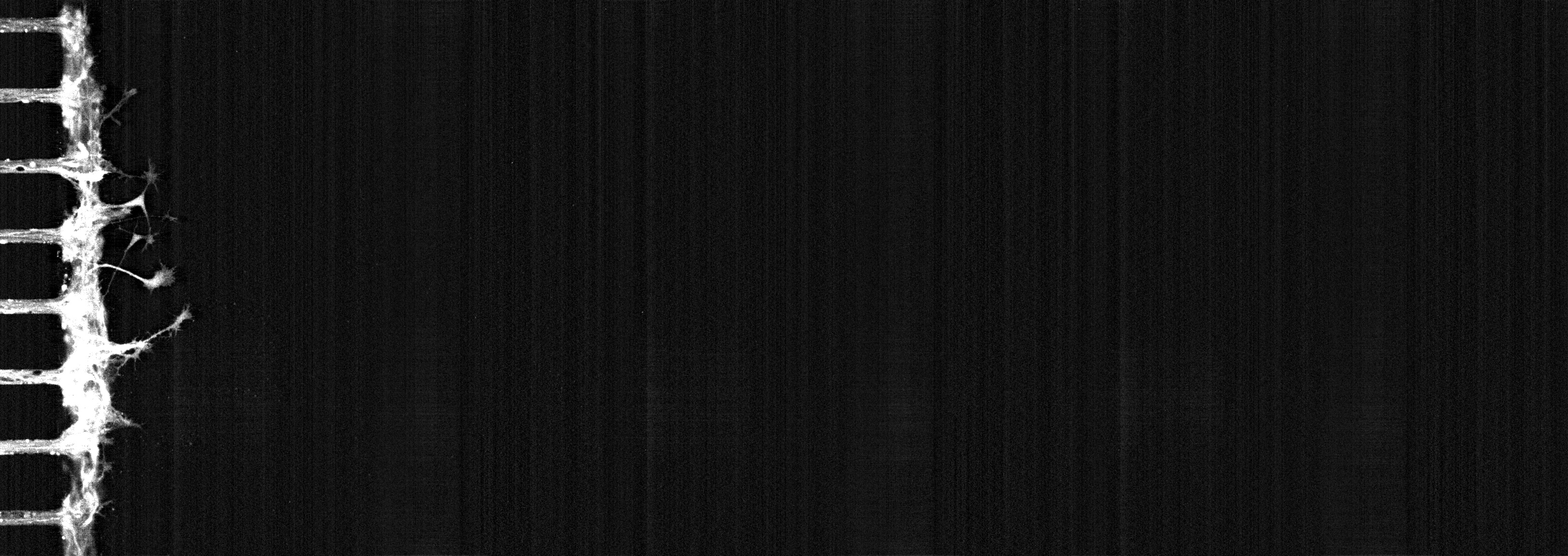tip: (145, 265, 177, 288), (175, 305, 192, 323)
